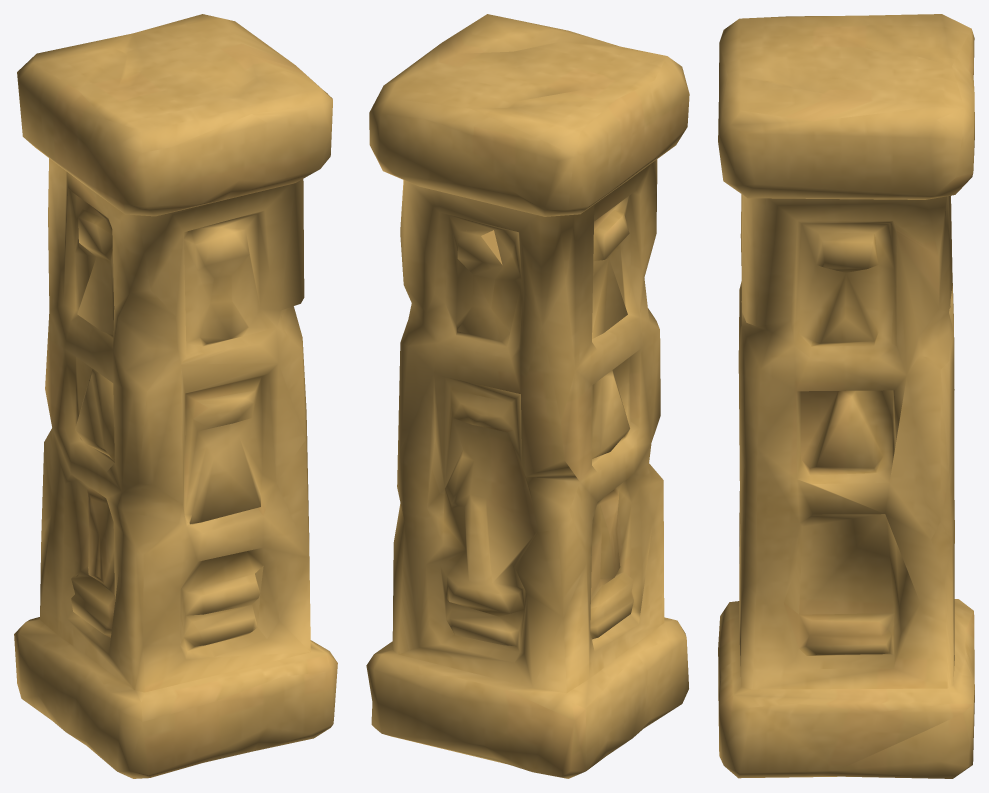
The model's file is lg-desert-pillar.glb.
3 views of the same model, side by side, from view 1: azimuth 30°, elevation 25°; view 2: azimuth 150°, elevation 25°; view 3: azimuth 270°, elevation 25° (orthographic). The views are drawn at different scales.
Visible parts, largest first — view 1: geometry_0; view 2: geometry_0; view 3: geometry_0.
Boxes of the visible parts, x1,y1,x2,y2 form: geometry_0: (14,14,337,778); geometry_0: (366,14,689,778); geometry_0: (718,14,974,778).
Size of the model in its own units: 0.3483 by 1 by 0.3471.
Materials: 1 (1 with a texture image).
